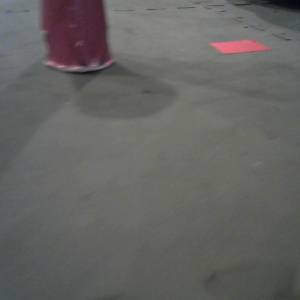middle: (39, 1, 115, 71)
